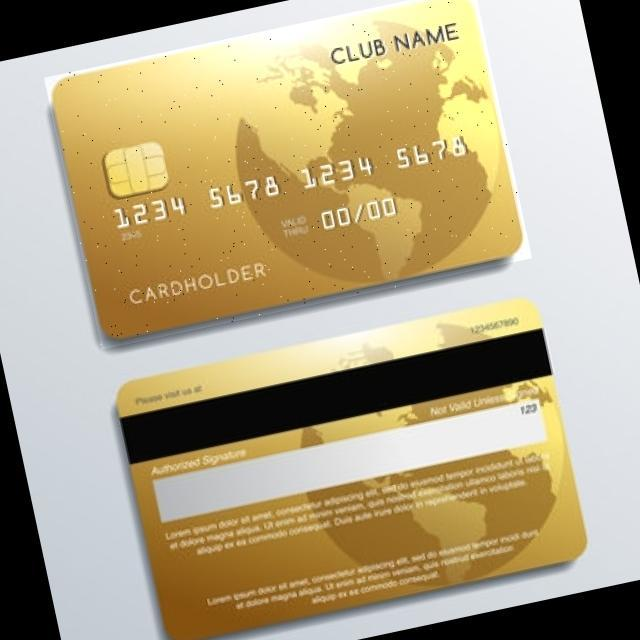payment_card: (43, 0, 530, 344), (114, 297, 588, 638)
